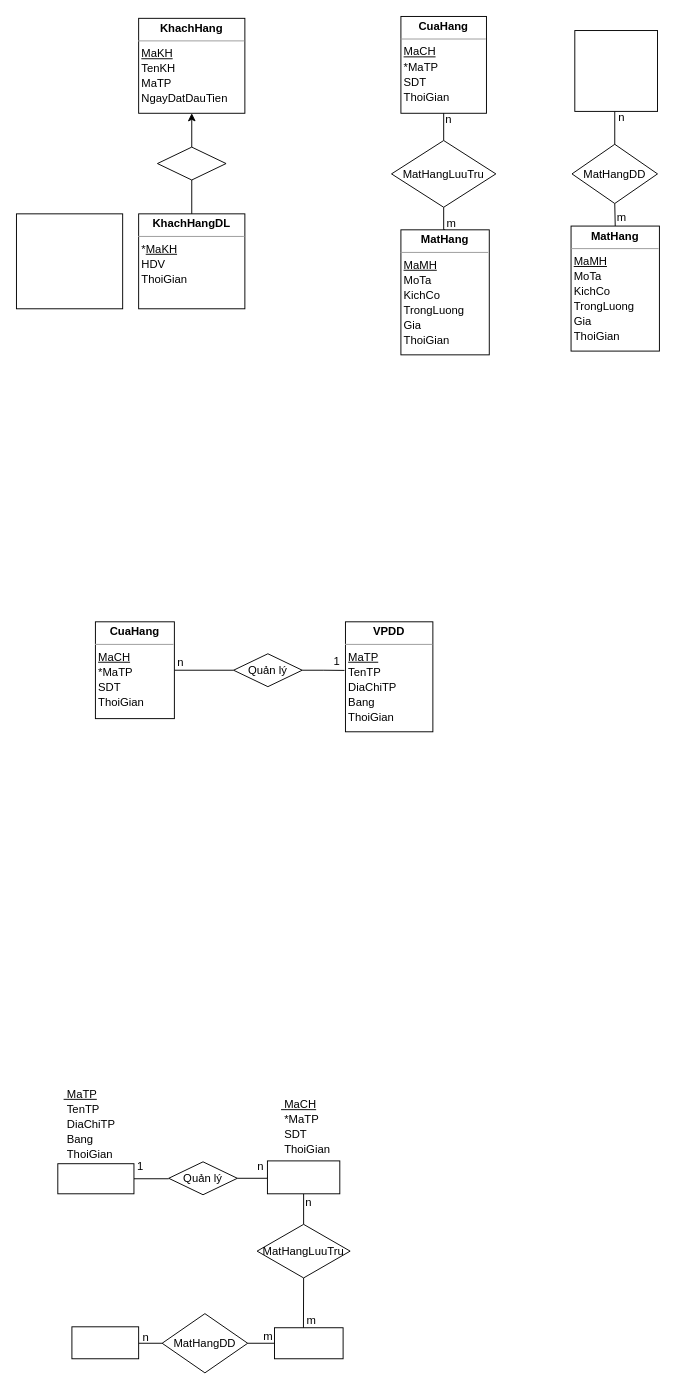
Image size: 676x1389. Some labels were removed from this diagram. Here are the shapes that lost their labels. From the top down, the centre of each, then its label:
pixel 616 70: DonHang MaDon NgayDat MaKH
pixel 191 163: Is-a
pixel 69 261: KhachHangBD * MaKH DiaChiBD ThoiGian
pixel 95 1178: VPDD
pixel 303 1177: CuaHang
pixel 105 1342: DonHang
pixel 308 1343: MatHang
